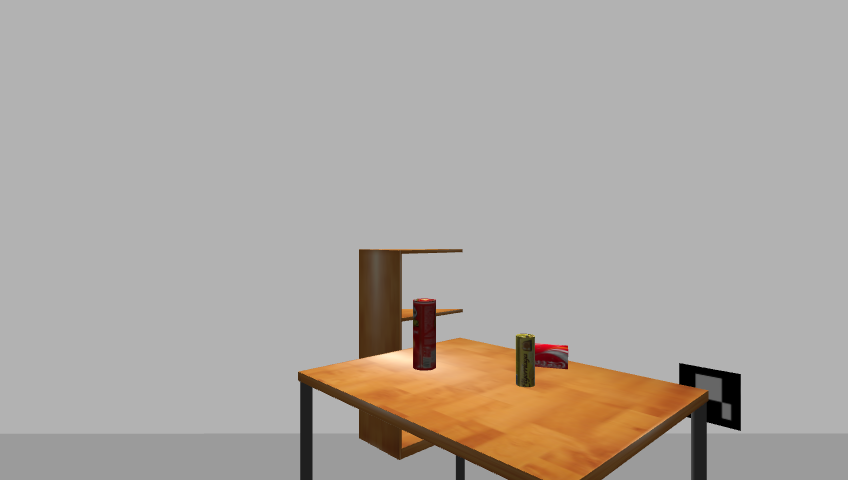aruco marker: (673, 361, 746, 432)
biscuits pack: (514, 334, 536, 388)
bookshelf: (353, 244, 466, 462)
coke can: (533, 344, 570, 371)
dinner table: (290, 340, 719, 480)
pringles can: (412, 299, 438, 373)
